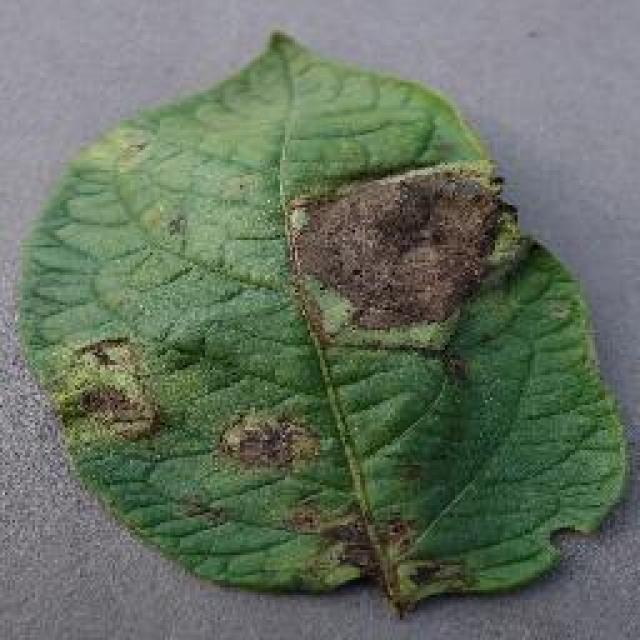Potato___Late_blight: (5, 8, 633, 638)
